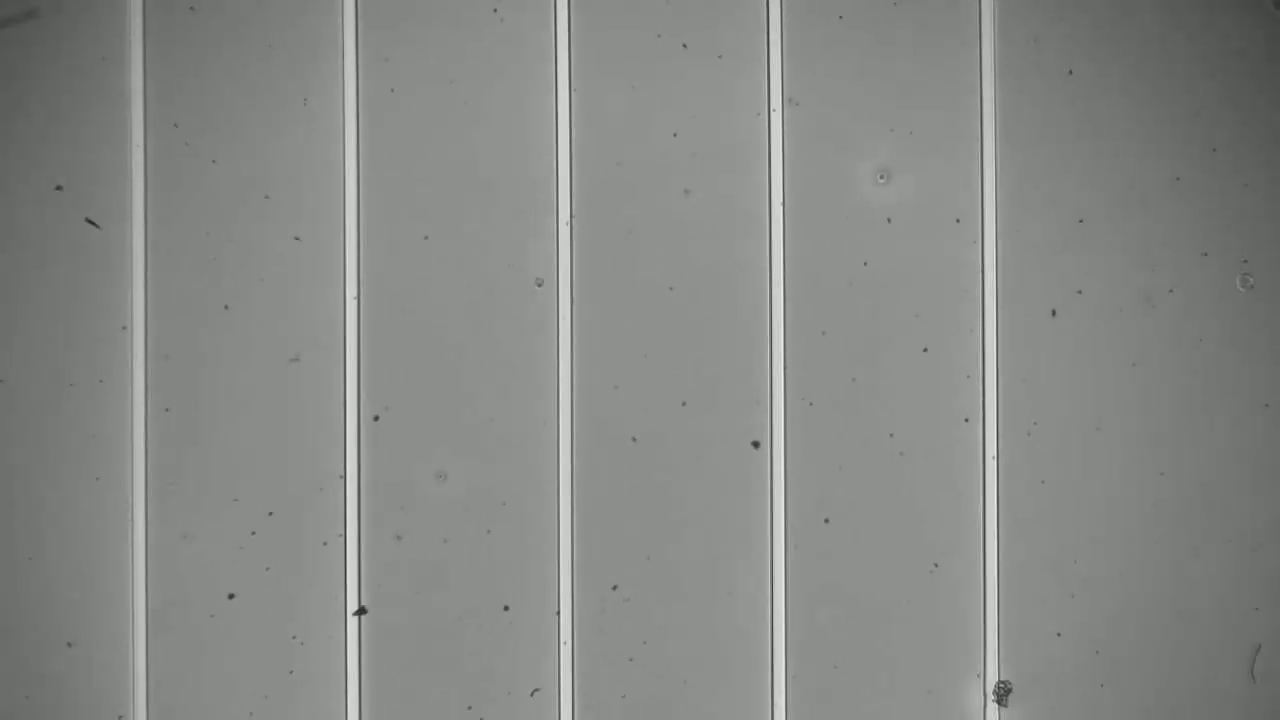stains_enbedded: (978, 675, 1016, 715)
